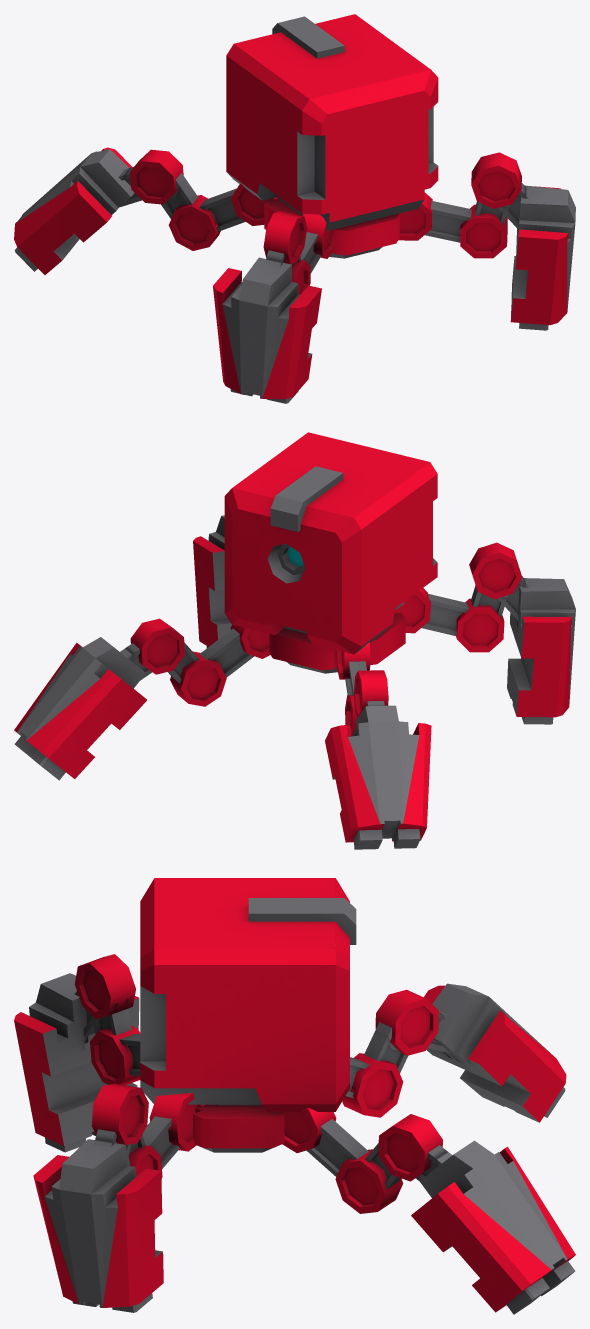
Rendered from Monster1_Attack15.obj.
3 views of the same model, one above another, from view 1: azimuth 30°, elevation 25°; view 2: azimuth 150°, elevation 25°; view 3: azimuth 270°, elevation 25° (orthographic). The views are drawn at different scales.
Visible parts, largest first — view 1: Box006, Object021, Object025, Object017, Object020, Object027, Object028, Object018, Object019, Object024, Object026, Object022 (+1 smaller); view 2: Box006, Object025, Object013, Object021, Object017, Object024, Object016, Object023, Object015, Object022, Object014, Object028 (+1 smaller); view 3: Box006, Object017, Object013, Object025, Object021, Object027, Object016, Object014, Object024, Object028, Object020, Object015 (+3 smaller).
Boxes of the visible parts, <box> form: Box006: <box>226,14,438,258</box>; Object021: <box>213,257,321,403</box>; Object025: <box>14,147,134,274</box>; Object017: <box>510,185,575,330</box>; Object020: <box>471,152,528,228</box>; Object027: <box>161,173,220,250</box>; Object028: <box>118,149,183,206</box>; Object018: <box>398,192,471,242</box>; Object019: <box>460,201,509,258</box>; Object024: <box>263,211,306,266</box>; Object026: <box>199,183,278,231</box>; Object022: <box>300,213,334,273</box>; Box006: <box>224,432,437,673</box>; Object025: <box>325,705,431,849</box>; Object013: <box>14,637,146,780</box>; Object021: <box>507,578,575,724</box>; Object017: <box>193,515,231,647</box>; Object024: <box>469,542,528,620</box>; Object016: <box>120,618,185,680</box>; Object023: <box>456,585,507,652</box>; Object015: <box>168,642,226,706</box>; Object022: <box>394,588,468,635</box>; Object014: <box>200,625,270,677</box>; Object028: <box>354,670,388,718</box>; Box006: <box>140,878,356,1152</box>; Object017: <box>33,1139,163,1312</box>; Object013: <box>411,1140,575,1314</box>; Object025: <box>424,983,566,1122</box>; Object021: <box>14,973,139,1152</box>; Object027: <box>342,1022,407,1117</box>; Object016: <box>378,1114,452,1181</box>; Object014: <box>280,1108,368,1176</box>; Object024: <box>74,954,135,1036</box>; Object028: <box>375,989,450,1055</box>; Object020: <box>92,1083,148,1159</box>; Object015: <box>335,1143,402,1213</box>.
Bounding box in the file's own units: 156 × 97.33 × 158.
